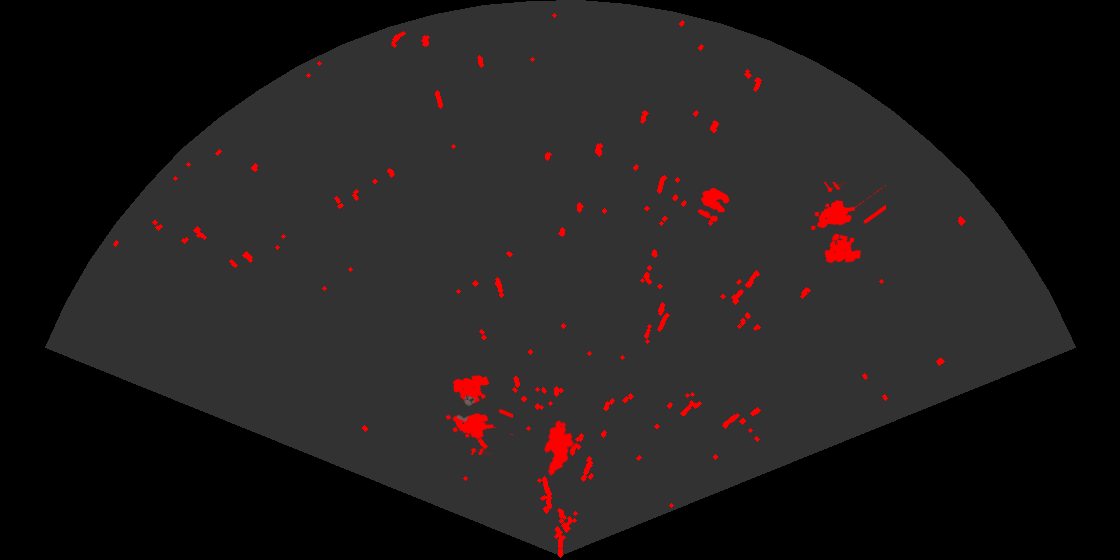AUV: (543, 419, 575, 478)
ball: (696, 186, 731, 224)
cage: (809, 182, 886, 265), (444, 373, 513, 455)
